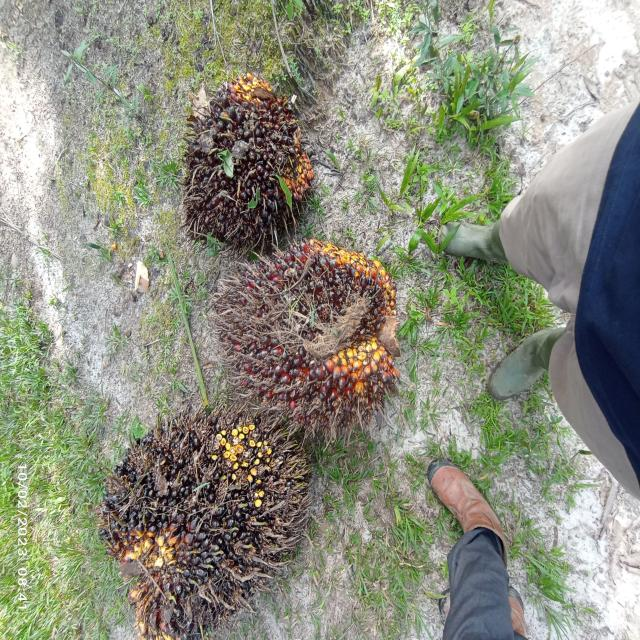fraksi 00: (66, 368, 332, 640), (168, 64, 318, 254)
fraksi 1: (215, 225, 414, 442)
